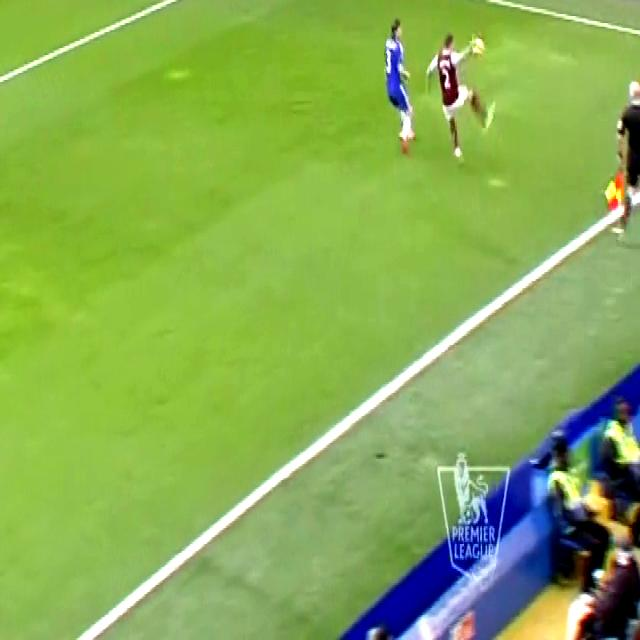ball: (468, 18, 489, 71)
referee: (603, 62, 640, 238)
soccer-player: (426, 22, 498, 162), (373, 4, 420, 156)
